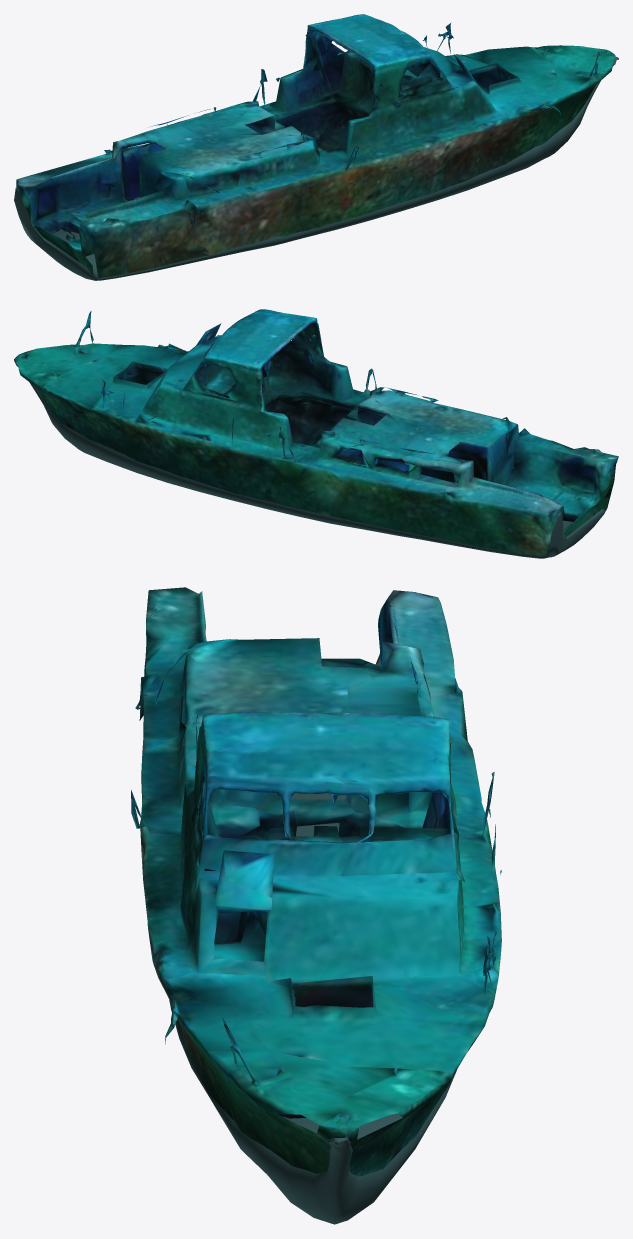
File: far.glb
3 renders of one model, top to bottom at view 1: azimuth 30°, elevation 25°; view 2: azimuth 150°, elevation 25°; view 3: azimuth 270°, elevation 25°, orthographic. The views are drawn at different scales.
Visible parts, largest first — view 1: yatush distant; view 2: yatush distant; view 3: yatush distant.
Part boxes in pixels (box(x1,y1,x2,y2)): yatush distant: box(14, 14, 618, 280); yatush distant: box(14, 309, 618, 558); yatush distant: box(131, 587, 501, 1224).
Bounding box in the file's own units: 17.34 × 4.82 × 4.94.
2 materials, 1 textured.
